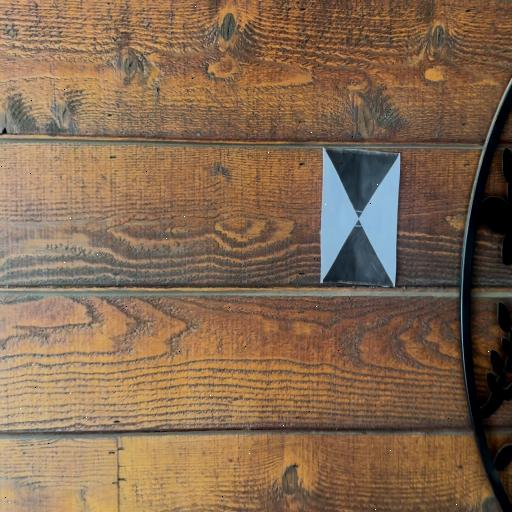target: (322, 147, 398, 286)
